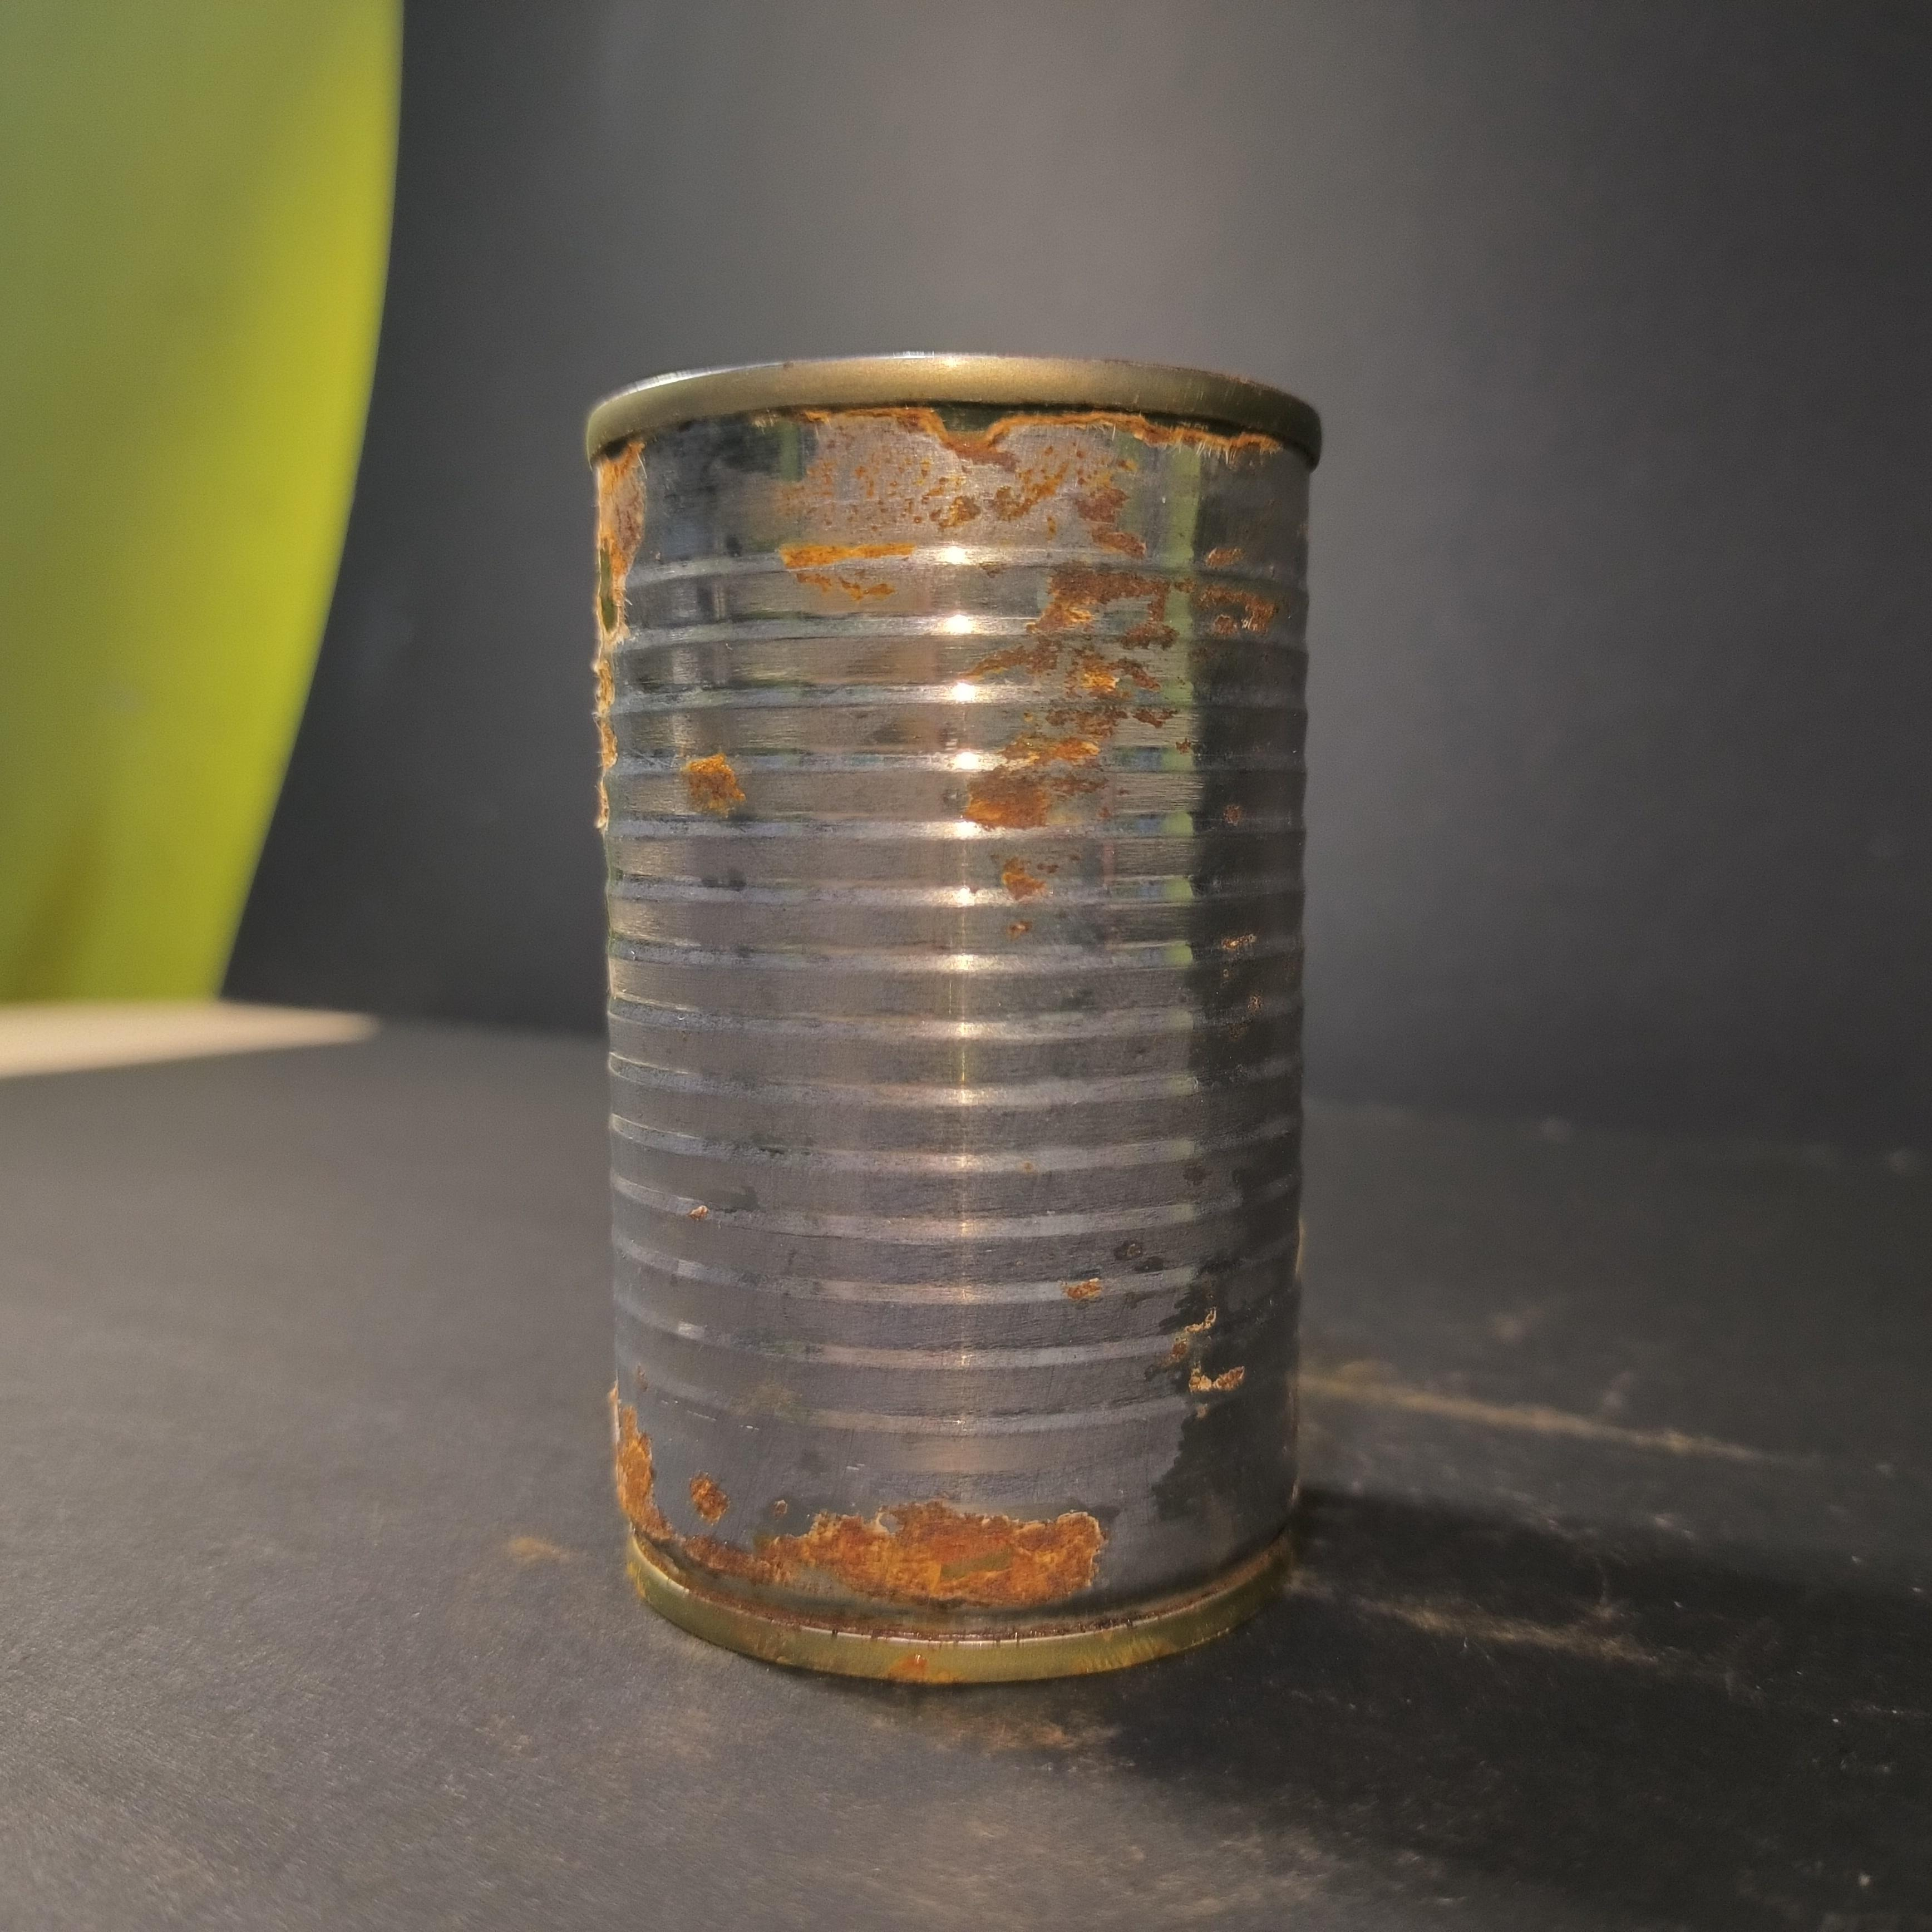Rusted: (559, 334, 1371, 1686)
